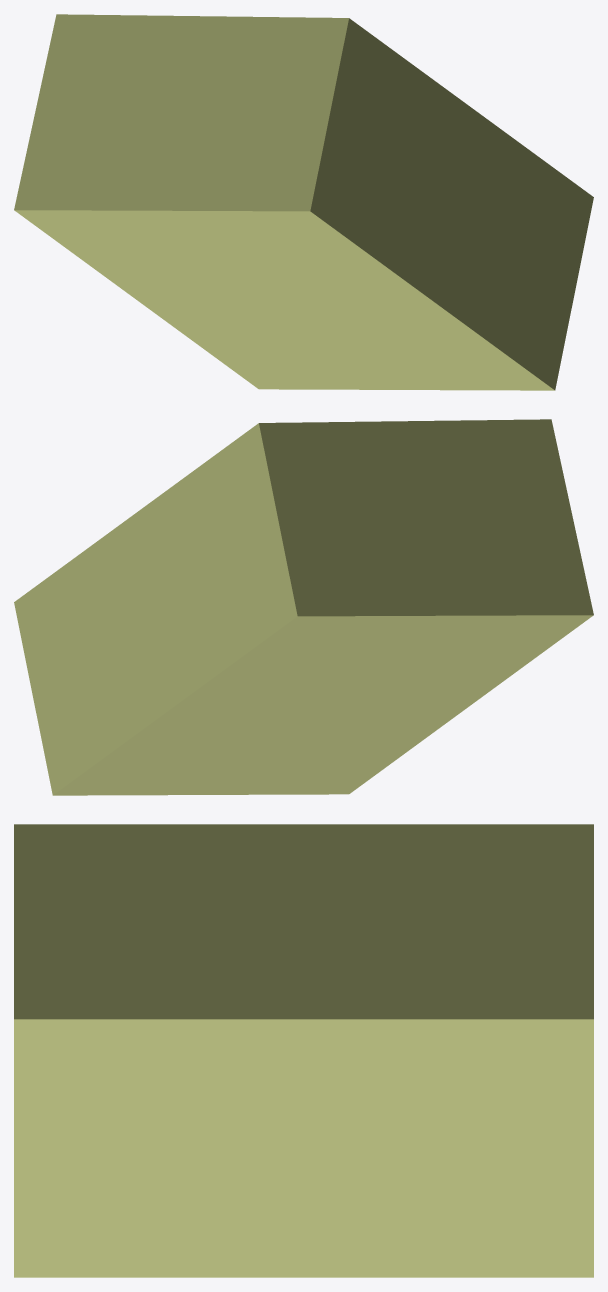
The picture shows the model from 3 angles, top to bottom: view 1: azimuth 30°, elevation 25°; view 2: azimuth 150°, elevation 25°; view 3: azimuth 270°, elevation 25°; orthographic projection. The views are drawn at different scales.
Parts seen in each view (by area): view 1: 0_1_1_3_3_1_1_3_3_0_3; view 2: 0_1_1_3_3_1_1_3_3_0_3; view 3: 0_1_1_3_3_1_1_3_3_0_3.
Boxes of the visible parts, left/top/right/bottom form: 0_1_1_3_3_1_1_3_3_0_3: left=14, top=14, right=593, bottom=390; 0_1_1_3_3_1_1_3_3_0_3: left=14, top=419, right=593, bottom=795; 0_1_1_3_3_1_1_3_3_0_3: left=14, top=824, right=593, bottom=1277.
Bounding box in the file's own units: 7.11 × 5.25 × 9.
